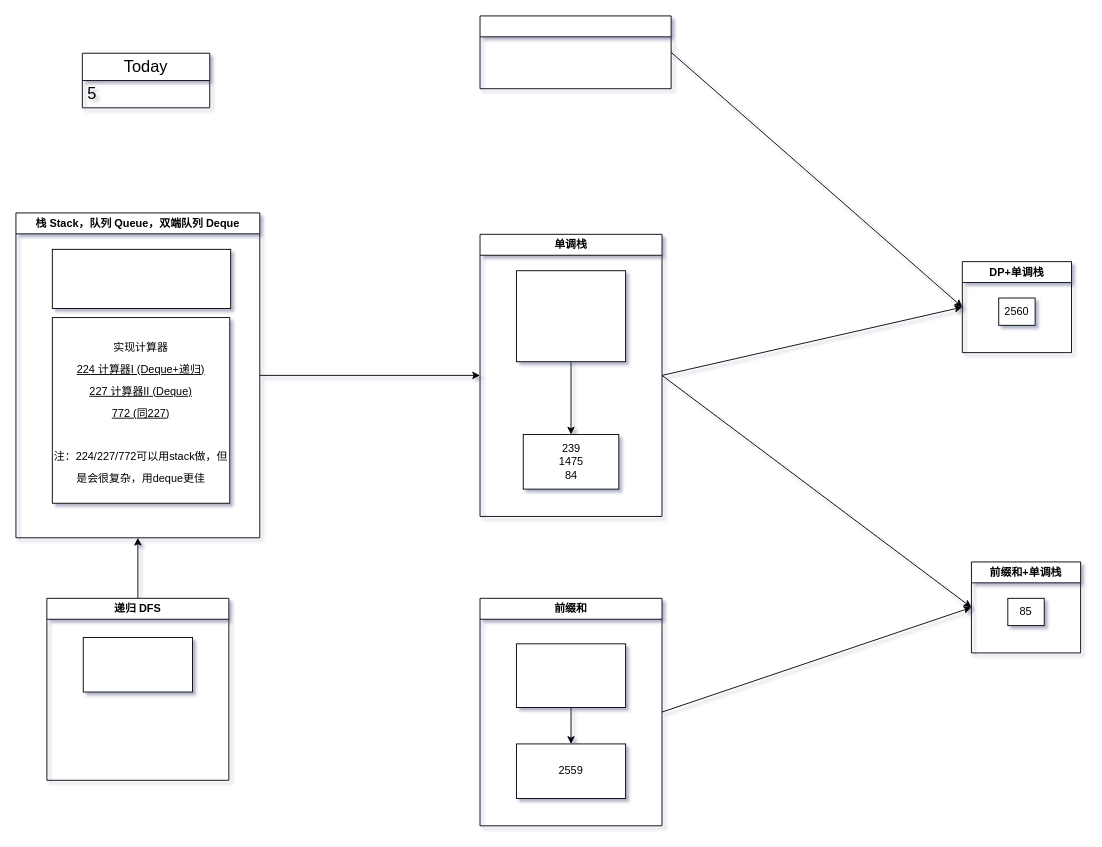
The diagram is 1102 pixels wide and 847 high, and some of its shapes have lost their labels. Here are the shapes that lost their labels. From the top down, the centre of each, then its label:
At (575,52): "DP".
At (141,278): "基础必会 20 括号对 (Stack)".
At (571,316): "基础必会 496 503 739".
At (137,664): "基础必会 17 (电话号码)".
At (571,675): "基础必会 303 304".
